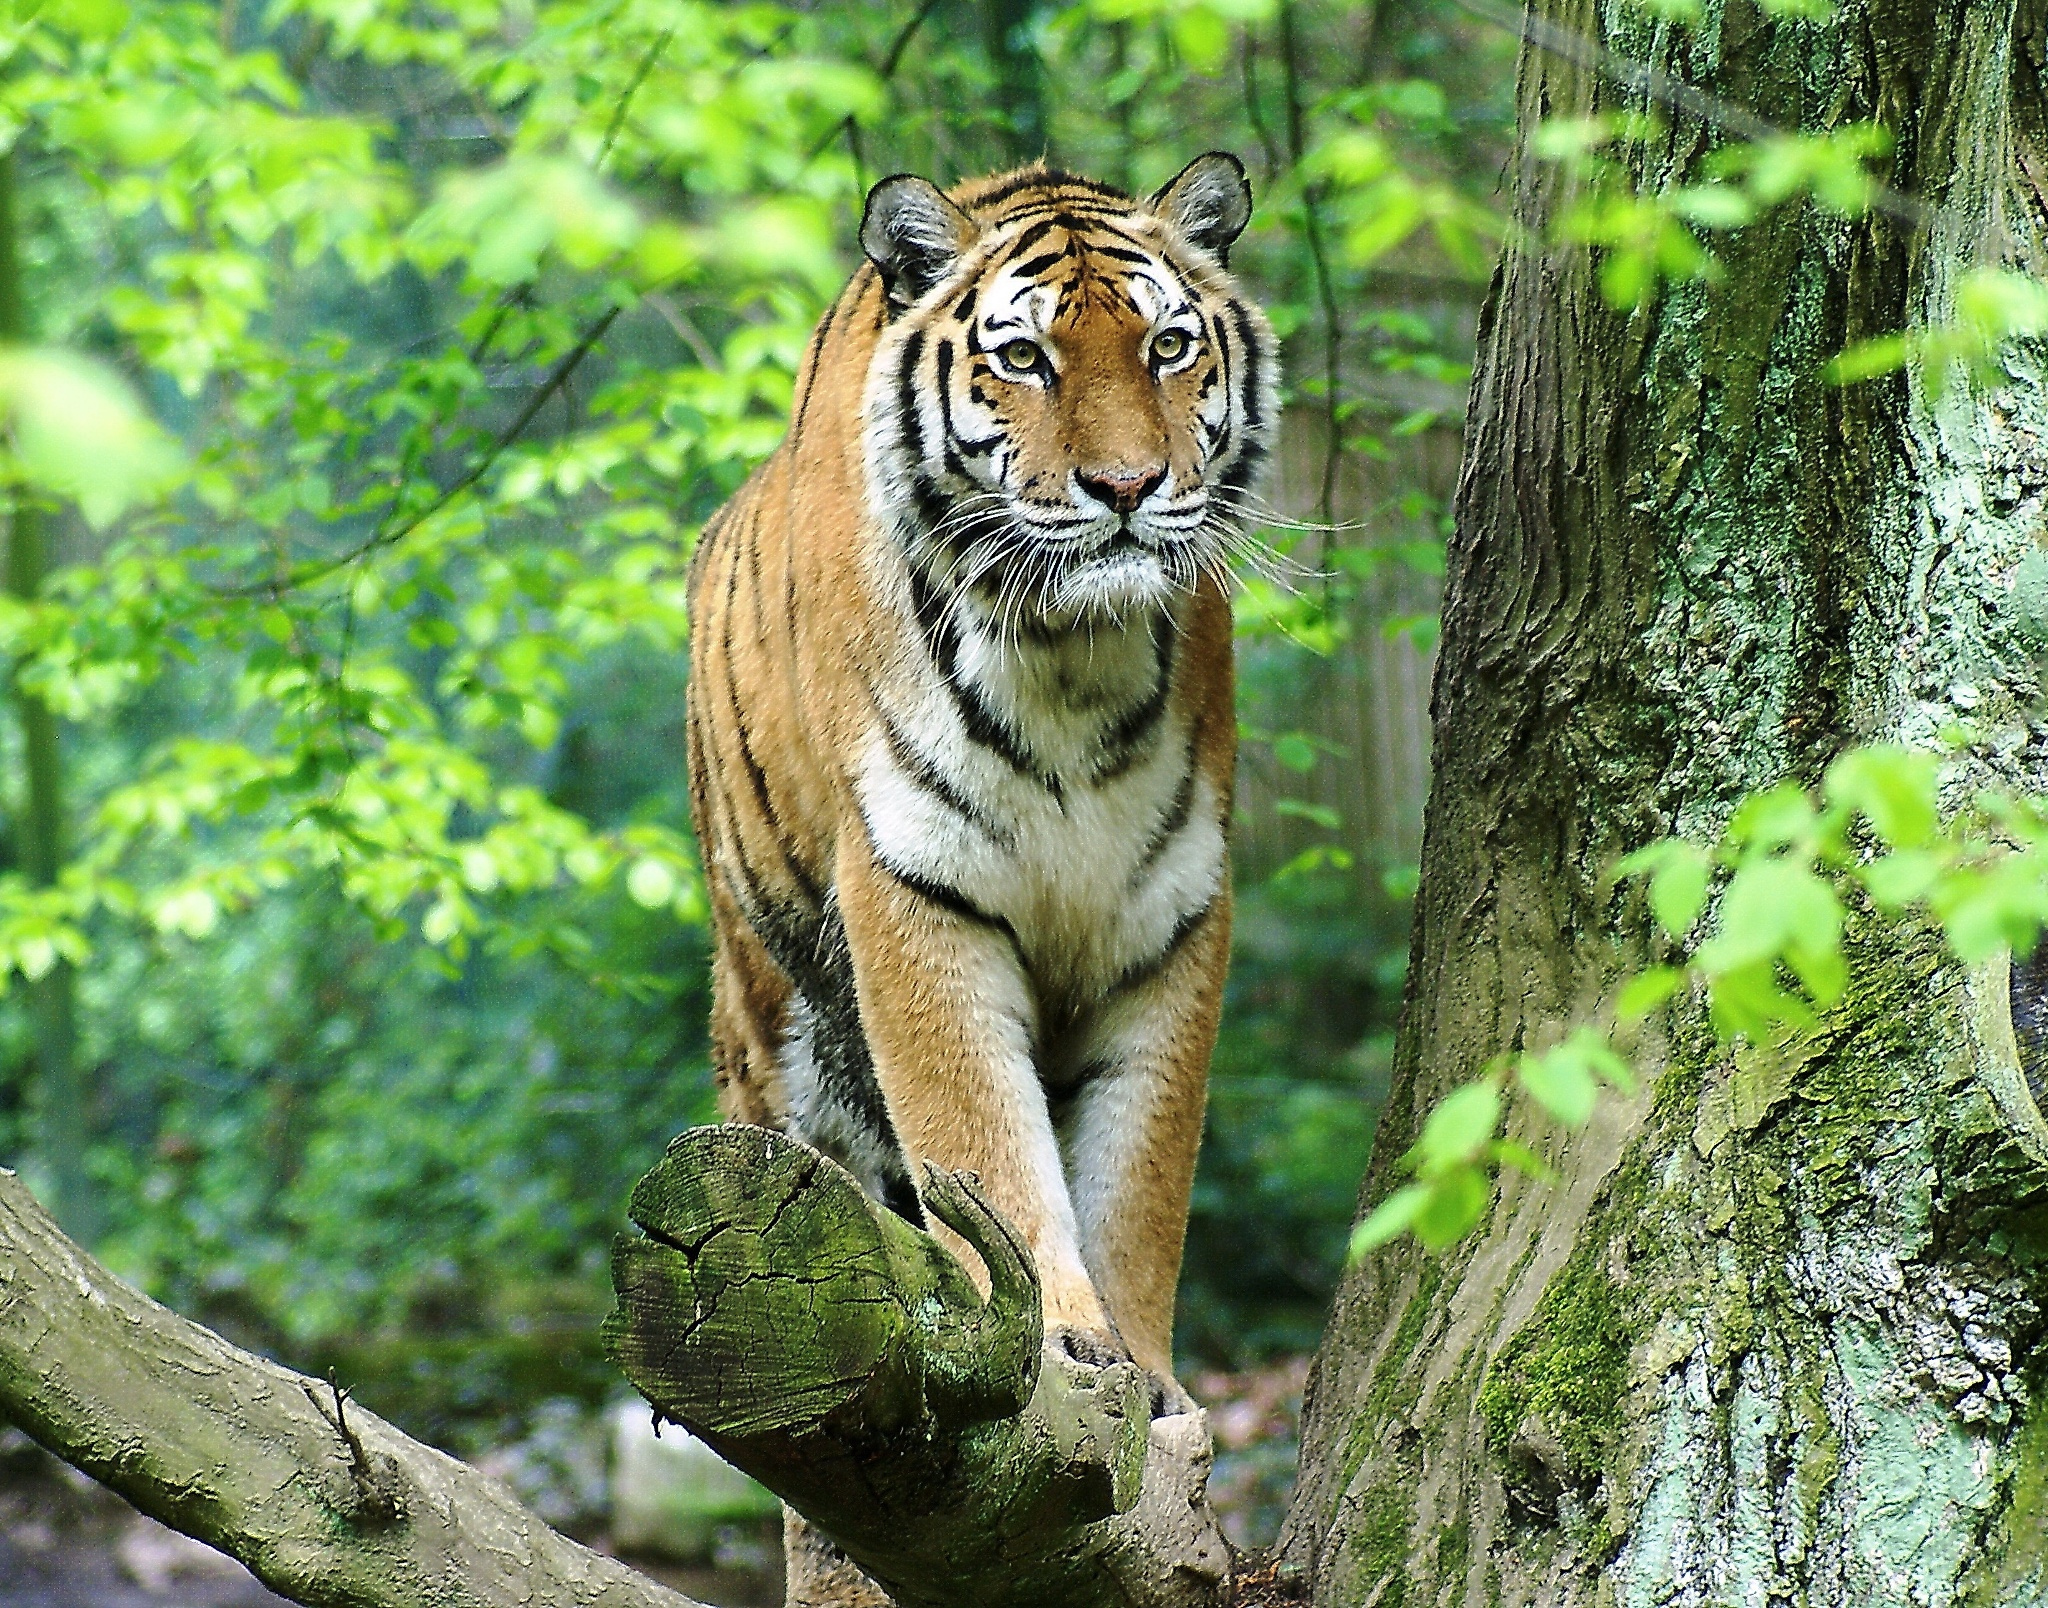tiger: (672, 125, 1355, 1445)
